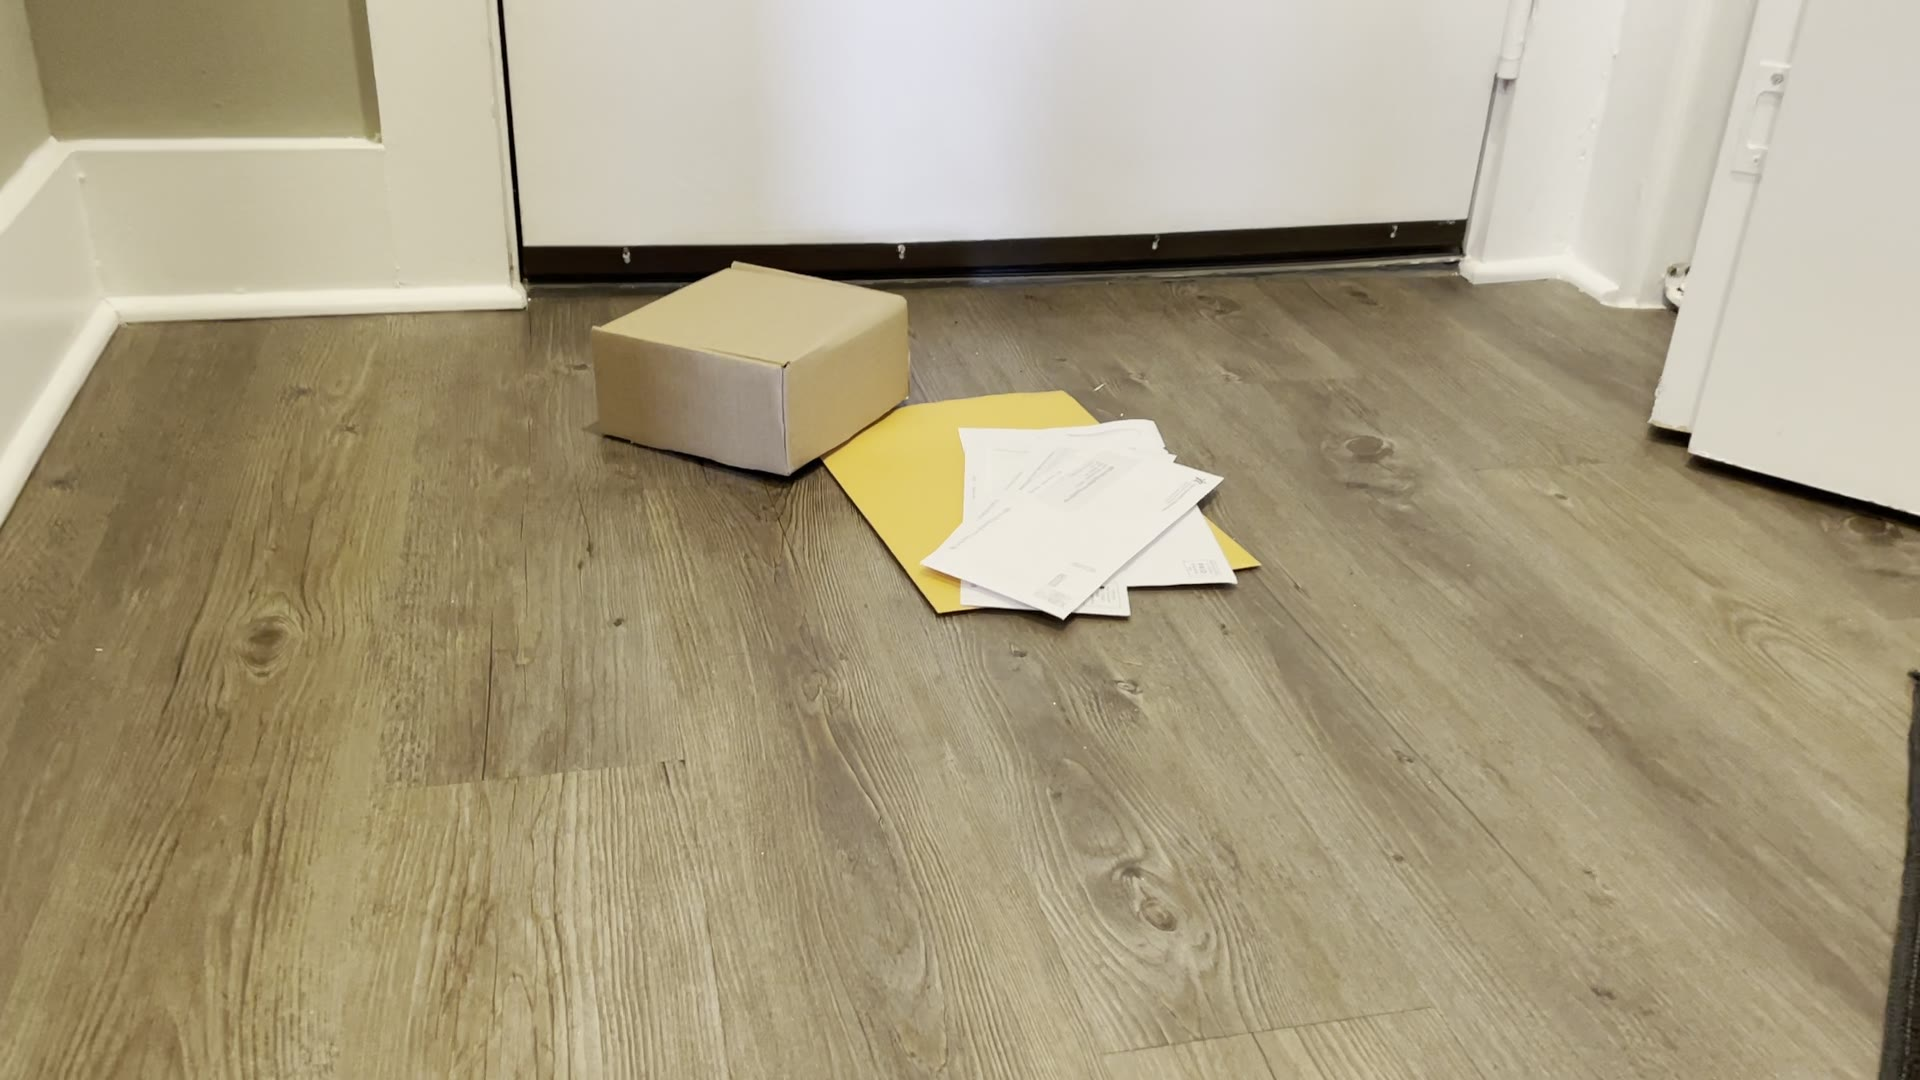box: (579, 243, 928, 479)
envelope: (814, 375, 1273, 626), (918, 426, 1245, 618)
